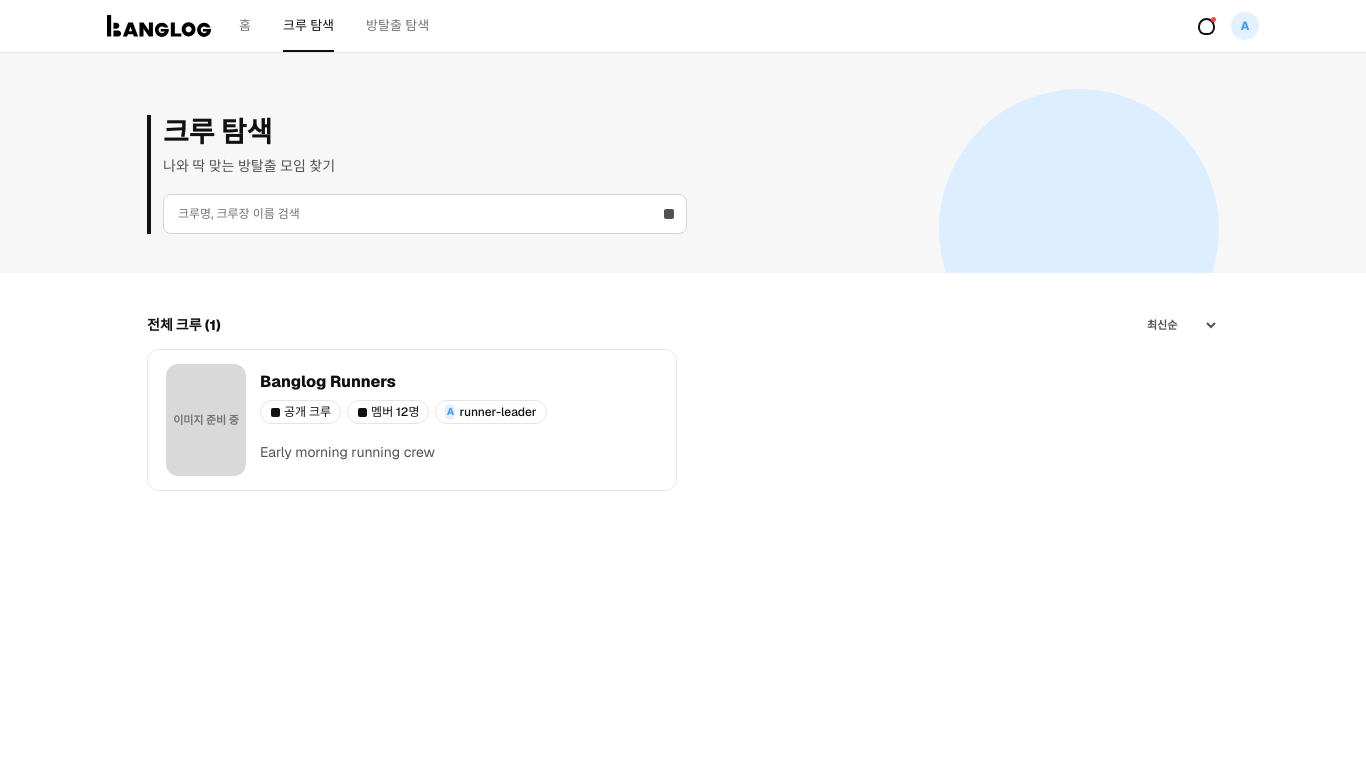
PublicCrewsPage › opens the crew detail modal from a crew card
What coordinates should you click on to do the following:
click the link "Banglog Runners"
I would click on:
 (328, 382)
Its box is x1=260 y1=371 x2=396 y2=392.
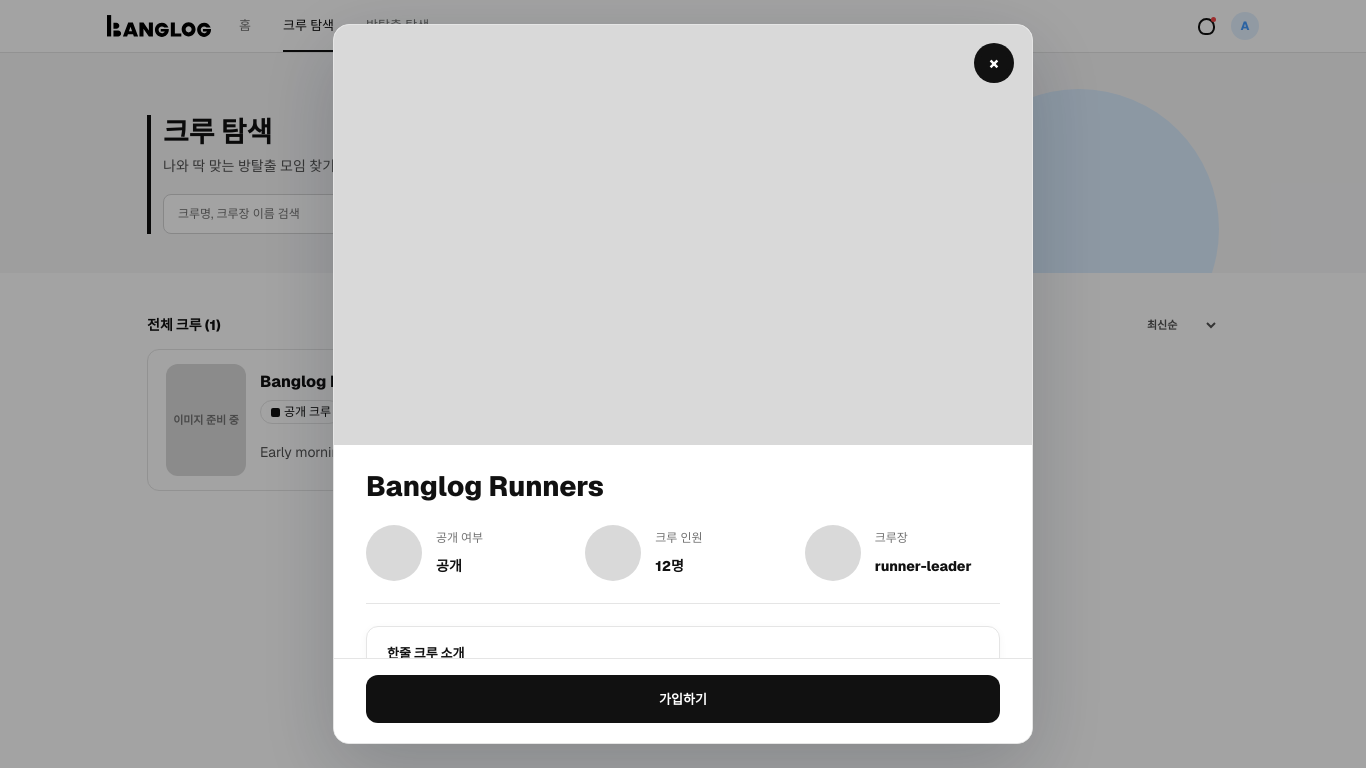
Expected: the dialog "Banglog Runners" is shown, x1=333 y1=24 x2=1033 y2=744
Expected: the heading "한줄 크루 소개" is shown, x1=387 y1=645 x2=464 y2=658
Expected: the text "공개 여부" is shown, x1=436 y1=530 x2=483 y2=546
What coordinates should you click on to do the following:
click the button named "닫기"
I would click on:
 (994, 63)
Its box is x1=974 y1=43 x2=1014 y2=83.
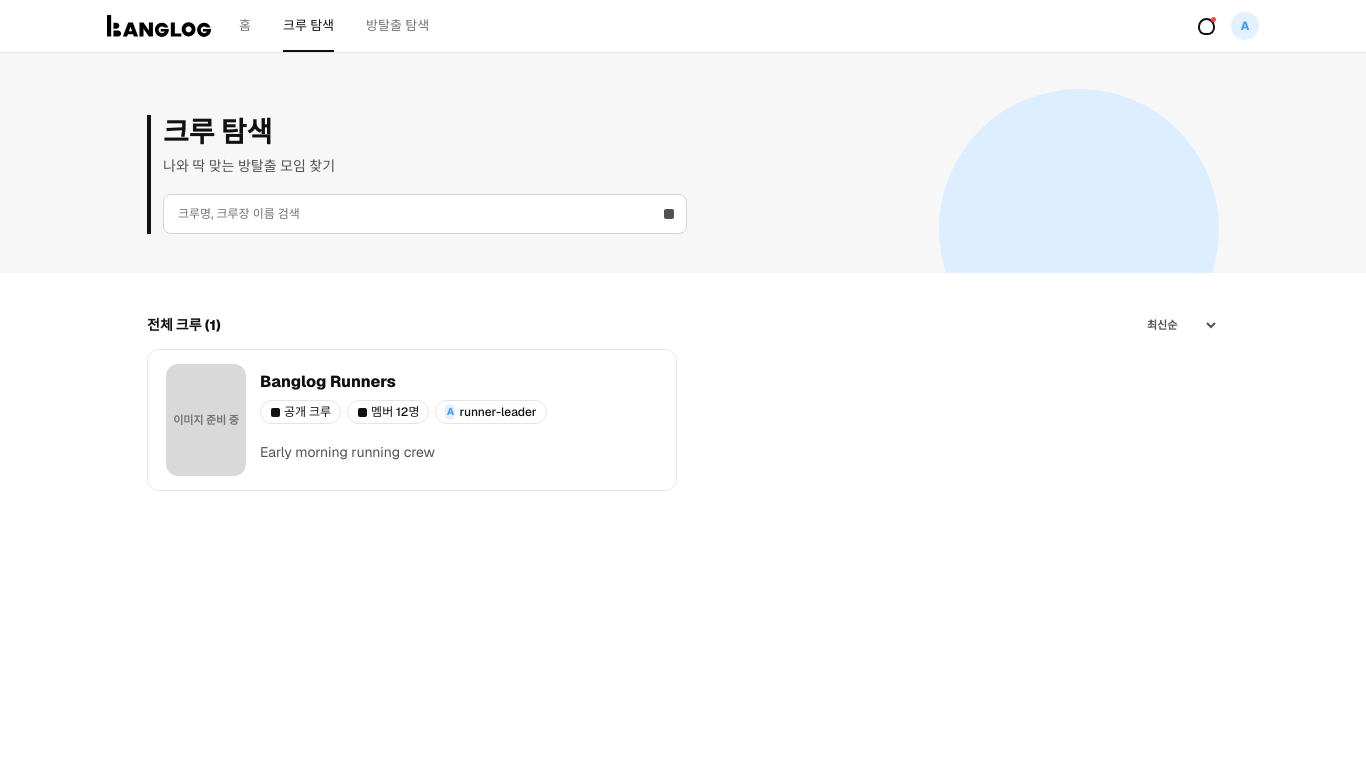
Expected: the dialog is gone
